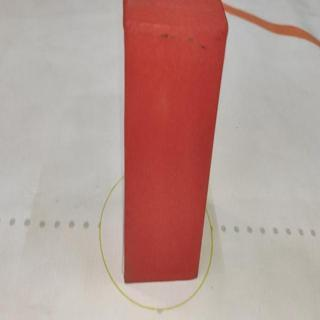redbox: (121, 1, 230, 283)
